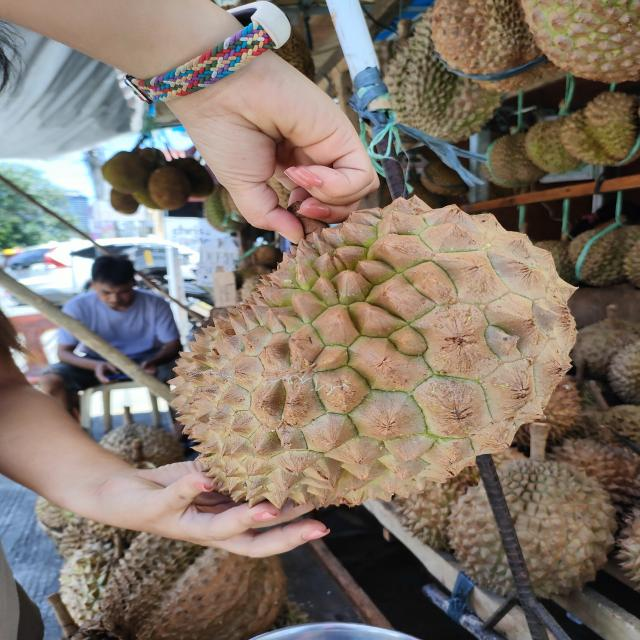mature: (172, 195, 582, 514)
